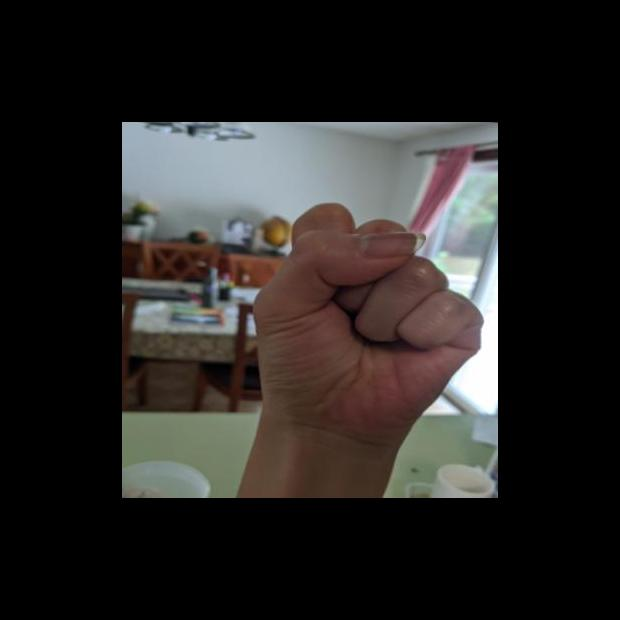R: (233, 192, 497, 458)
